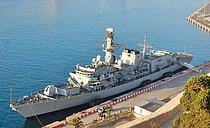MIL_Ship: (12, 26, 189, 109)
